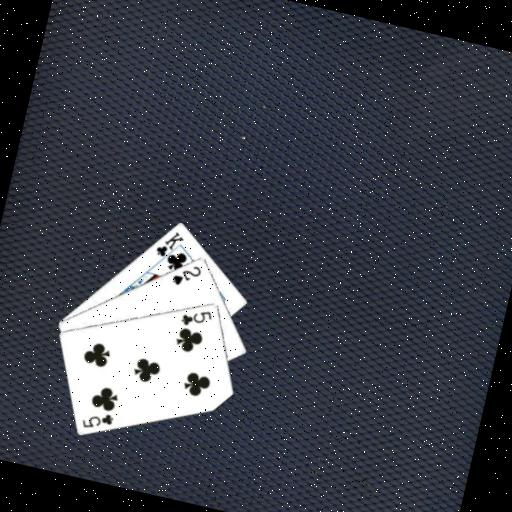2S: (168, 258, 205, 291)
5C: (78, 404, 116, 435), (177, 302, 215, 332)
KC: (151, 225, 188, 268)
